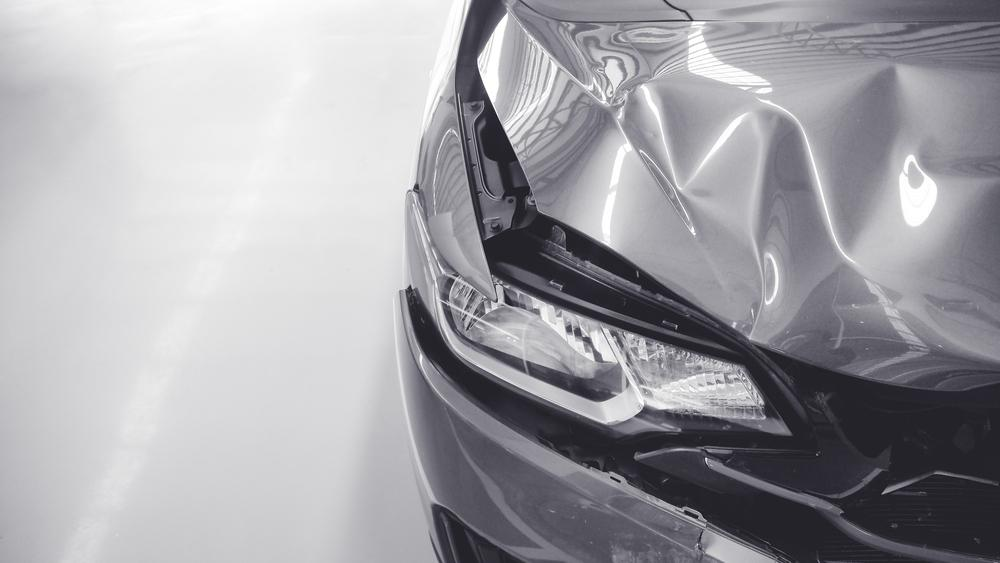crack: (697, 524, 707, 552)
dent: (554, 0, 1000, 357)
